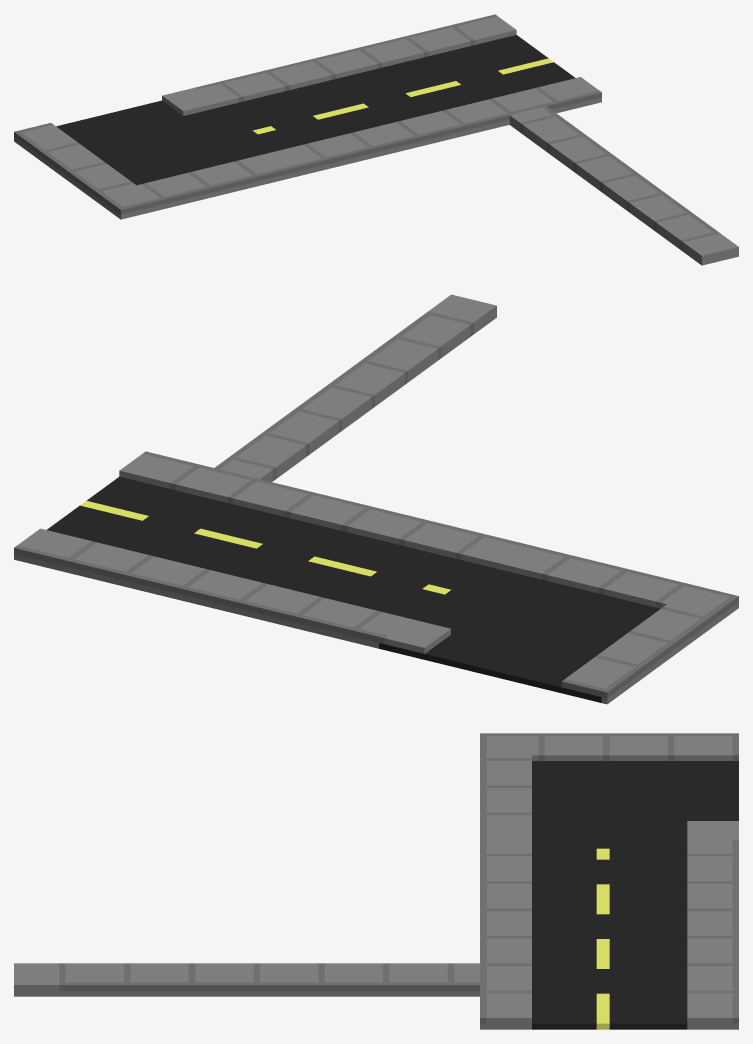
Rendered from store_fill-3.obj.
3 renders of one model, top to bottom at view 1: azimuth 30°, elevation 25°; view 2: azimuth 150°, elevation 25°; view 3: azimuth 270°, elevation 25°, orthographic. The views are drawn at different scales.
Visible parts, largest first — view 1: store_fill-3; view 2: store_fill-3; view 3: store_fill-3.
Boxes of the visible parts, <box> form: store_fill-3: <box>14,14,738,265</box>; store_fill-3: <box>14,294,738,704</box>; store_fill-3: <box>14,733,738,1029</box>.
Size of the model in its own units: 104 by 2 by 112.
Materials: 1 (1 with a texture image).
